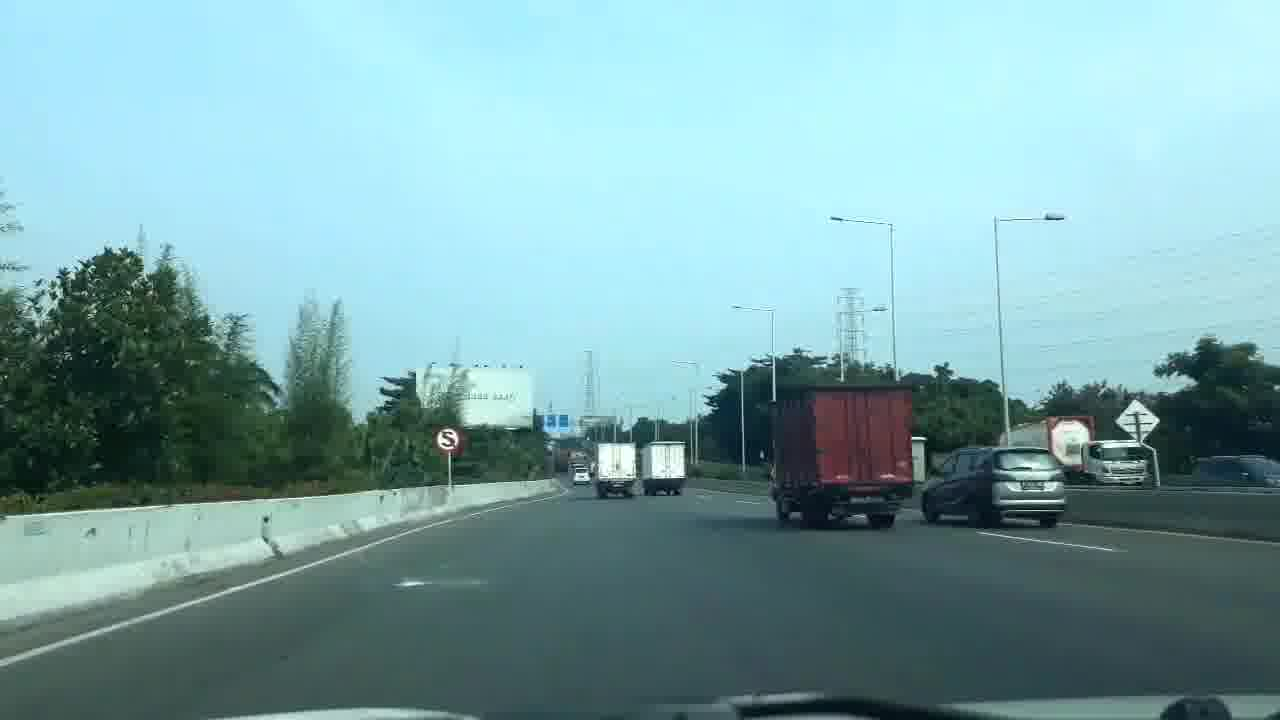plate_positive: (850, 495, 886, 503), (1021, 480, 1046, 489)
